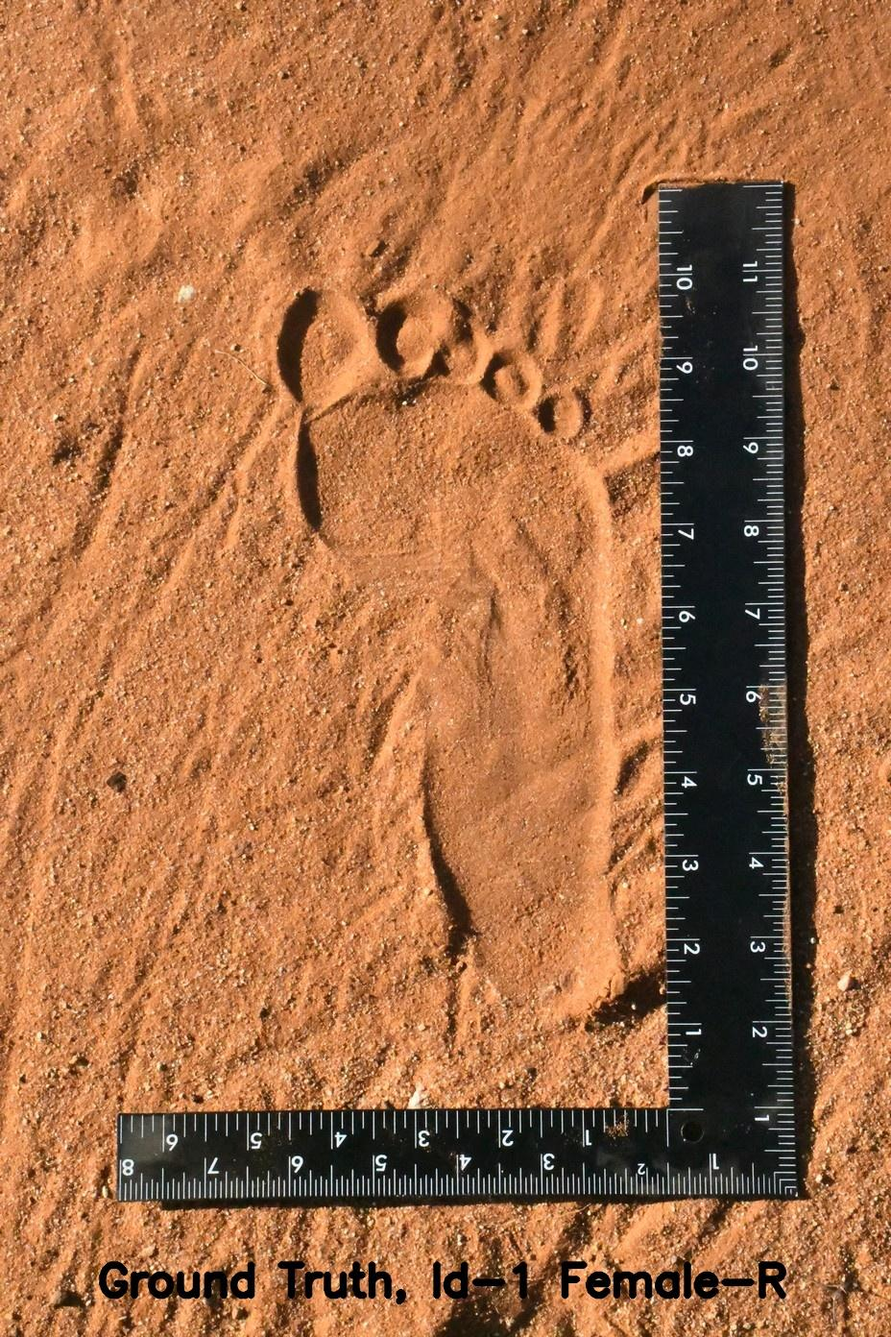human_foot_print: (247, 238, 666, 1063)
